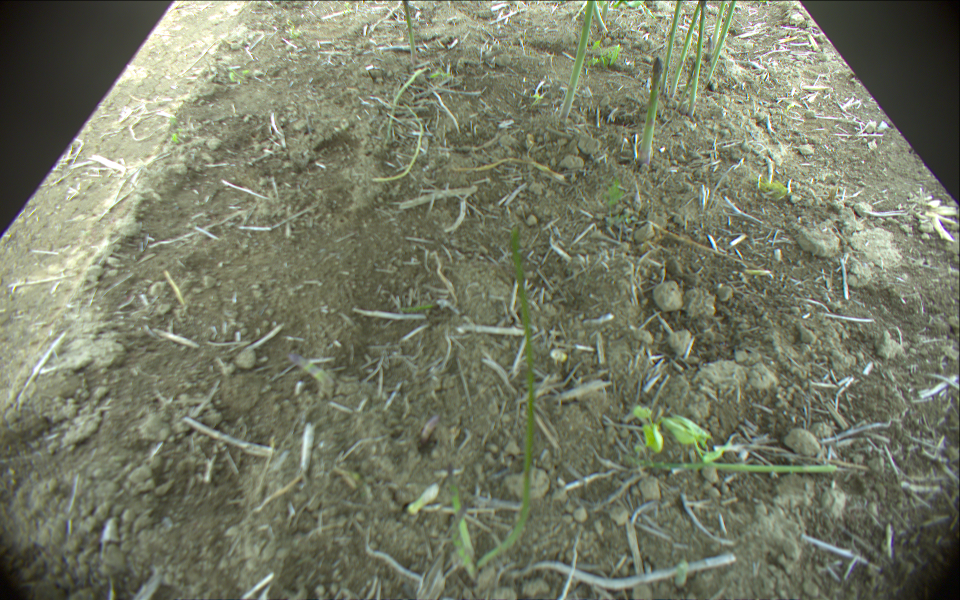aspa: (479, 225, 537, 570), (557, 1, 599, 122), (440, 459, 478, 577), (628, 456, 840, 476), (670, 1, 701, 100), (638, 51, 664, 163), (707, 1, 737, 87), (690, 1, 705, 117), (662, 1, 679, 92), (400, 1, 416, 64), (710, 1, 727, 56)
